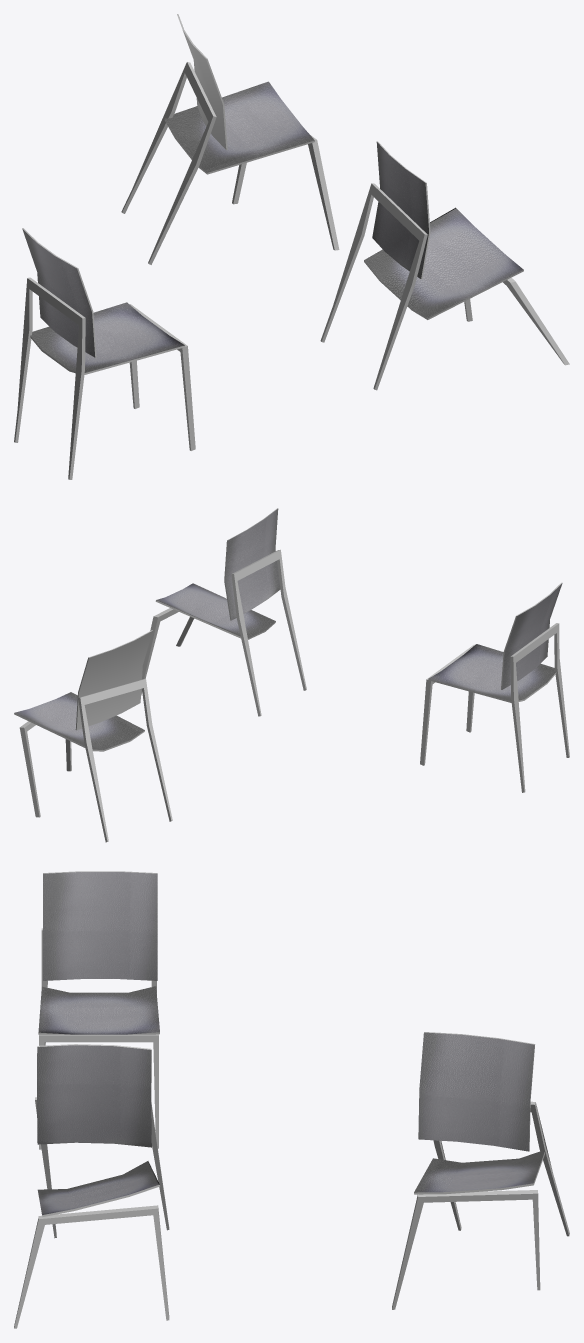
Rendered from sillas.FBX.
3 views of the same model, one above another, from view 1: azimuth 30°, elevation 25°; view 2: azimuth 150°, elevation 25°; view 3: azimuth 270°, elevation 25° (orthographic). The views are drawn at different scales.
Parts seen in each view (by area): view 1: Box003, Box006, Box002, Box004, Box001, Line006, Line004, Line007, Box005, Line003, Line008, Line005; view 2: Box005, Box004, Box002, Box006, Box003, Box001, Line007, Line006, Line004, Line003, Line008, Line005; view 3: Box001, Box005, Box004, Box002, Box006, Box003, Line005, Line008, Line003, Line007, Line006.
Part boxes in pixels (x1=…): Box003: x1=364, y1=207, x2=523, y2=319; Box006: x1=164, y1=81, x2=314, y2=174; Box002: x1=30, y1=302, x2=185, y2=375; Box004: x1=372, y1=141, x2=430, y2=279; Box001: x1=22, y1=228, x2=96, y2=357; Line006: x1=320, y1=183, x2=427, y2=390; Line004: x1=14, y1=277, x2=85, y2=479; Line007: x1=121, y1=62, x2=216, y2=264; Box005: x1=177, y1=14, x2=227, y2=150; Line003: x1=129, y1=304, x2=195, y2=450; Line008: x1=232, y1=135, x2=339, y2=250; Line005: x1=464, y1=277, x2=569, y2=365; Box005: x1=75, y1=630, x2=152, y2=730; Box004: x1=224, y1=508, x2=280, y2=620; Box002: x1=428, y1=644, x2=556, y2=702; Box006: x1=14, y1=692, x2=144, y2=751; Box003: x1=155, y1=583, x2=275, y2=639; Box001: x1=501, y1=582, x2=562, y2=689; Line007: x1=78, y1=679, x2=172, y2=842; Line006: x1=231, y1=549, x2=306, y2=716; Line004: x1=510, y1=623, x2=569, y2=792; Line003: x1=420, y1=644, x2=474, y2=765; Line008: x1=19, y1=721, x2=71, y2=817; Line005: x1=141, y1=608, x2=194, y2=695; Box001: x1=43, y1=871, x2=157, y2=980; Box005: x1=418, y1=1032, x2=535, y2=1151; Box004: x1=37, y1=1044, x2=151, y2=1147; Box002: x1=38, y1=986, x2=159, y2=1034; Box006: x1=414, y1=1151, x2=544, y2=1194; Box003: x1=37, y1=1161, x2=159, y2=1216; Line005: x1=14, y1=1205, x2=169, y2=1328; Line008: x1=392, y1=1190, x2=540, y2=1309; Line003: x1=39, y1=1034, x2=158, y2=1149; Line007: x1=433, y1=1101, x2=569, y2=1236; Line006: x1=35, y1=1097, x2=169, y2=1238.
Bounding box in the file's own units: 55.41 × 23.49 × 52.4.
